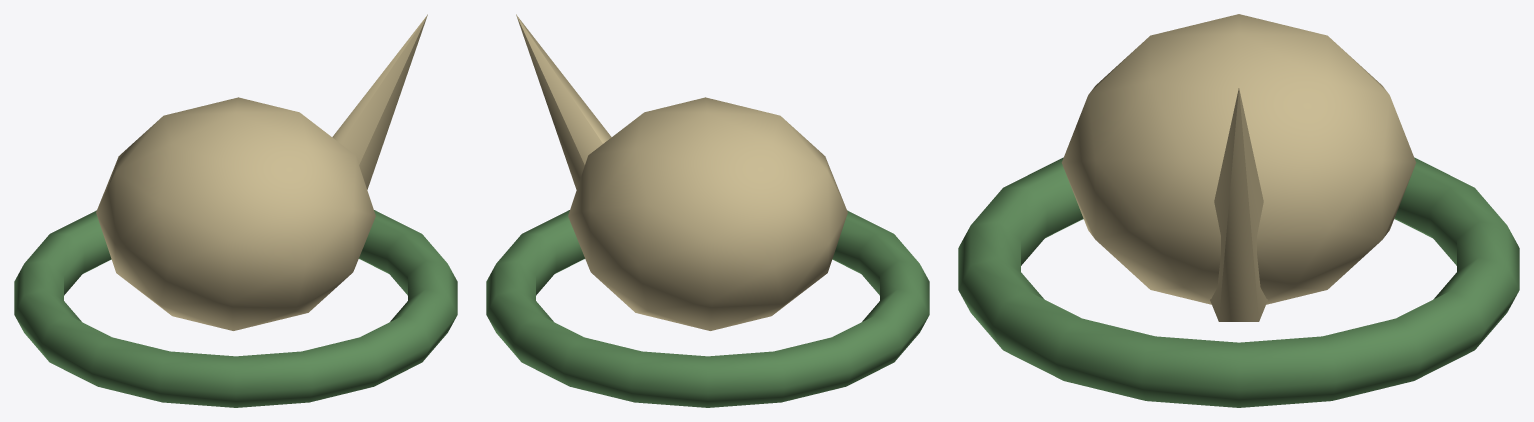
File: wpn_m_01.glb
The picture shows the model from 3 angles, left to right: view 1: azimuth 30°, elevation 25°; view 2: azimuth 150°, elevation 25°; view 3: azimuth 270°, elevation 25°; orthographic projection. The views are drawn at different scales.
Visible parts, largest first — view 1: impact_core, impact_ring, impact_ray; view 2: impact_core, impact_ring, impact_ray; view 3: impact_core, impact_ring, impact_ray.
Boxes of the visible parts, x1,y1,x2,y2 form: impact_core: (96, 97, 375, 330); impact_ring: (14, 210, 457, 407); impact_ray: (332, 14, 427, 189); impact_core: (568, 97, 847, 330); impact_ring: (486, 210, 929, 407); impact_ray: (516, 14, 611, 189); impact_core: (1061, 14, 1416, 304); impact_ring: (958, 157, 1519, 407); impact_ray: (1210, 88, 1267, 321).
Bounding box in the file's own units: 0.68 × 0.4347 × 0.6697.
